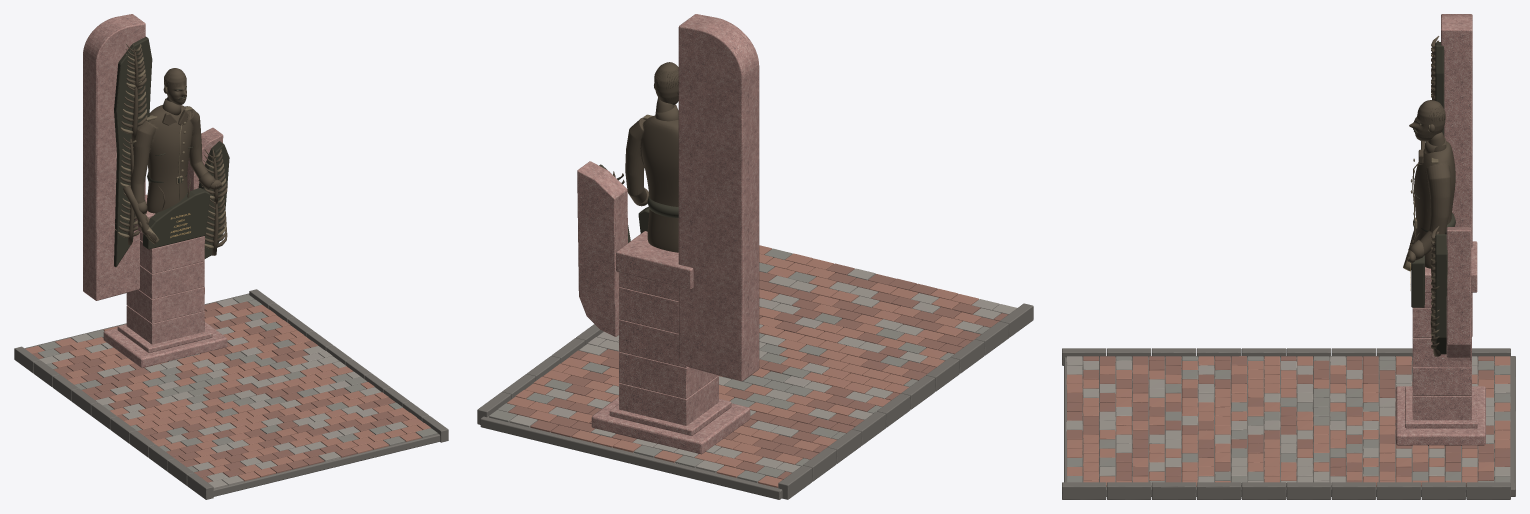
File: Dunin-Gorkavich.fbx
The picture shows the model from 3 angles, left to right: view 1: azimuth 30°, elevation 25°; view 2: azimuth 150°, elevation 25°; view 3: azimuth 270°, elevation 25°; orthographic projection. The views are drawn at different scales.
Visible parts, largest first — view 1: Approach, Granite, Reliefs, Portrait, GraniteLow, PortraitLow, ReliefsLow; view 2: Approach, Granite, GraniteLow, Portrait, PortraitLow; view 3: Approach, Granite, Portrait, Reliefs, PortraitLow, ApproachLow, ReliefsLow.
Boxes of the visible parts, x1,y1,x2,y2 form: Approach: [14, 289, 448, 499]; Granite: [83, 14, 227, 367]; Reliefs: [114, 36, 228, 267]; Portrait: [130, 68, 222, 228]; GraniteLow: [83, 18, 222, 352]; PortraitLow: [130, 68, 219, 216]; ReliefsLow: [115, 40, 229, 244]; Approach: [477, 245, 1033, 499]; Granite: [577, 14, 759, 454]; GraniteLow: [577, 19, 758, 435]; Portrait: [625, 62, 678, 252]; PortraitLow: [625, 62, 678, 251]; Approach: [1062, 348, 1515, 499]; Granite: [1395, 14, 1485, 445]; Portrait: [1406, 100, 1455, 268]; Reliefs: [1403, 36, 1447, 356]; PortraitLow: [1408, 100, 1455, 267]; ApproachLow: [1066, 356, 1510, 486]; ReliefsLow: [1410, 36, 1447, 347].
Bounding box in the file's own units: 251 × 331 × 348.
11 materials, 1 textured.
